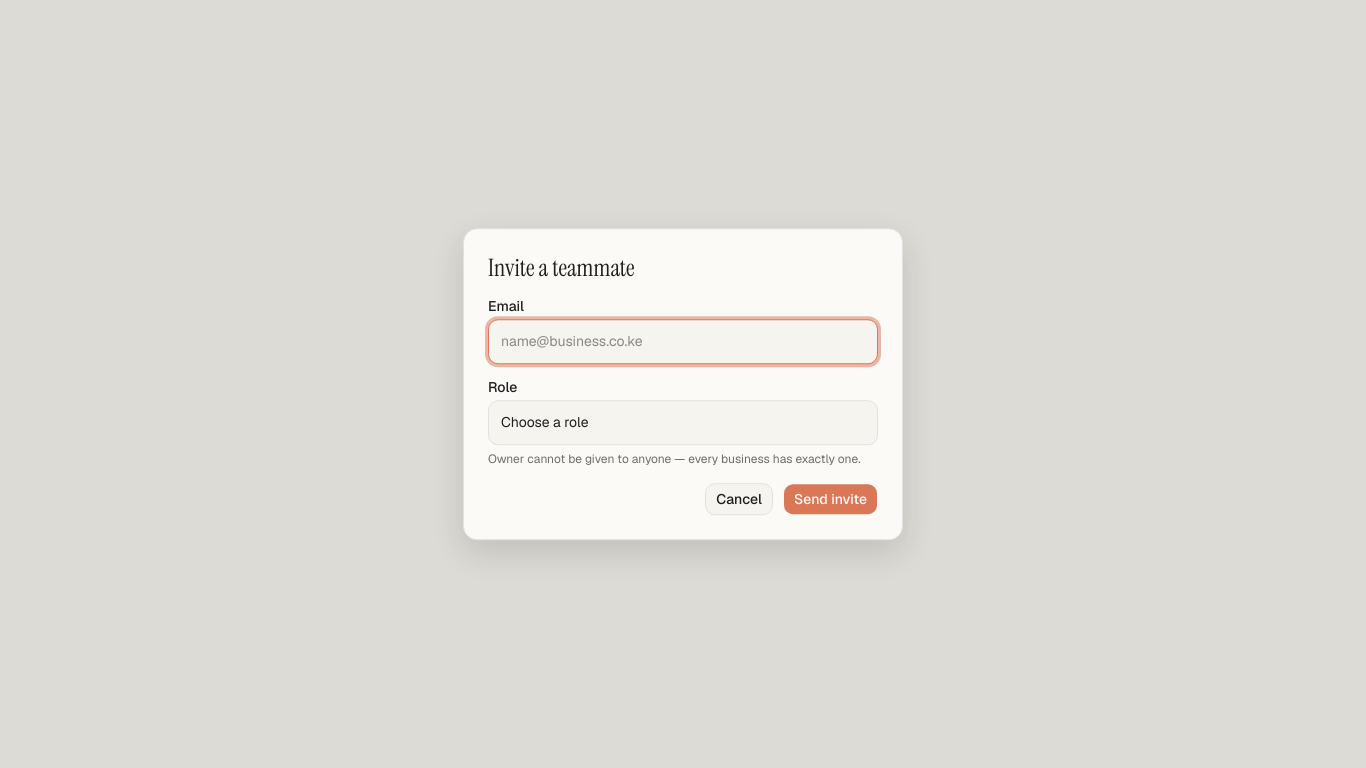
Test: InviteMemberDialog › adds the missing context to a 429: the quota belongs to the business
Type "leyla@spark.co.ke" into the field labelled "Email" at (683, 342), box left=488, top=319, right=878, bottom=364
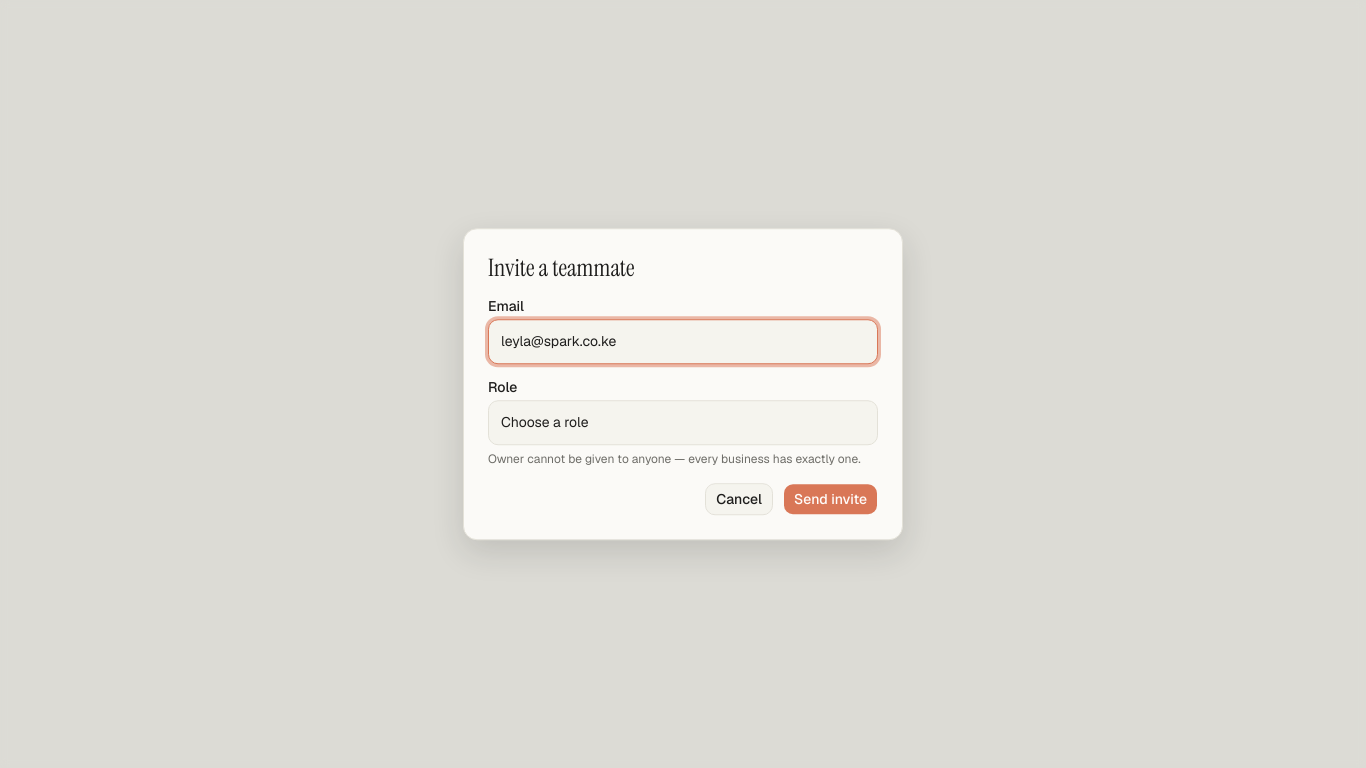
Select "Seller" in the dropdown labelled "Role" at (683, 422), box left=488, top=400, right=878, bottom=445
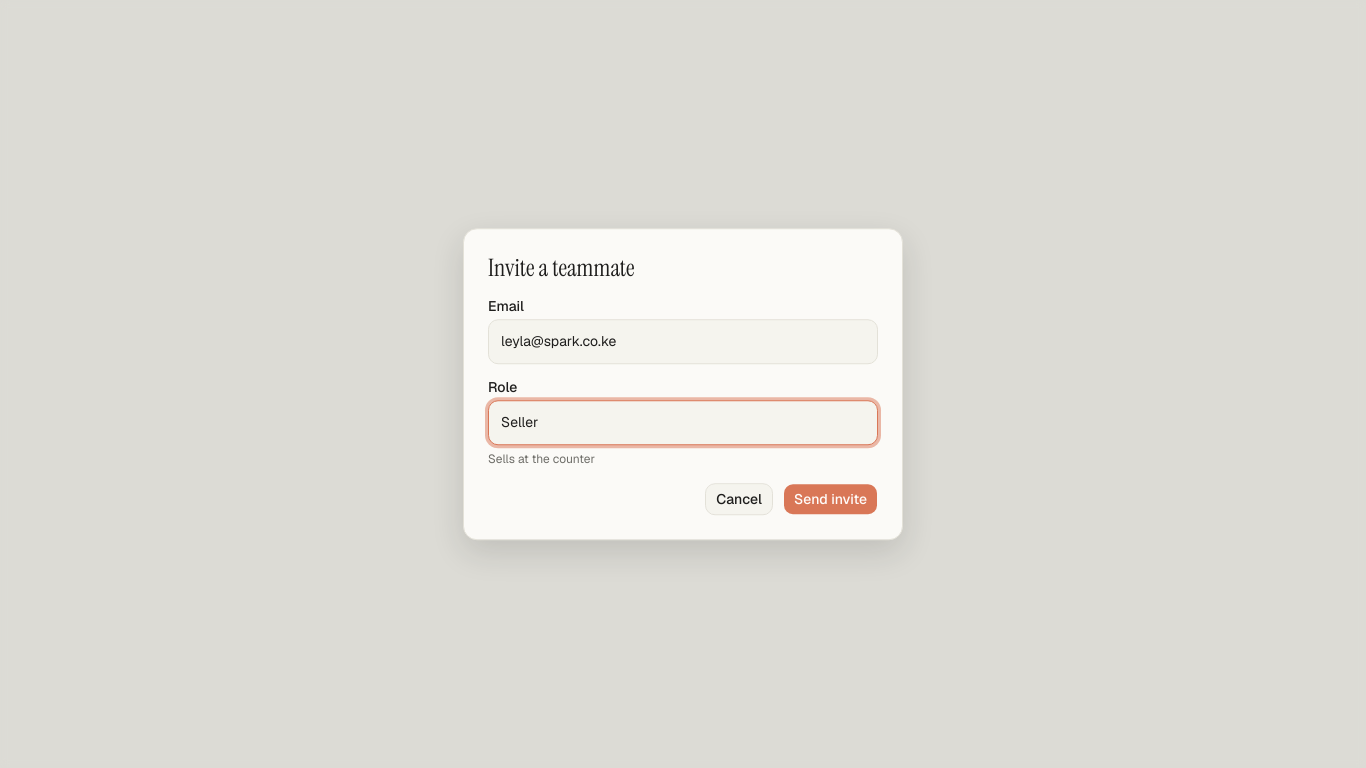
Click the button "Send invite" at (830, 499), box left=783, top=483, right=878, bottom=515
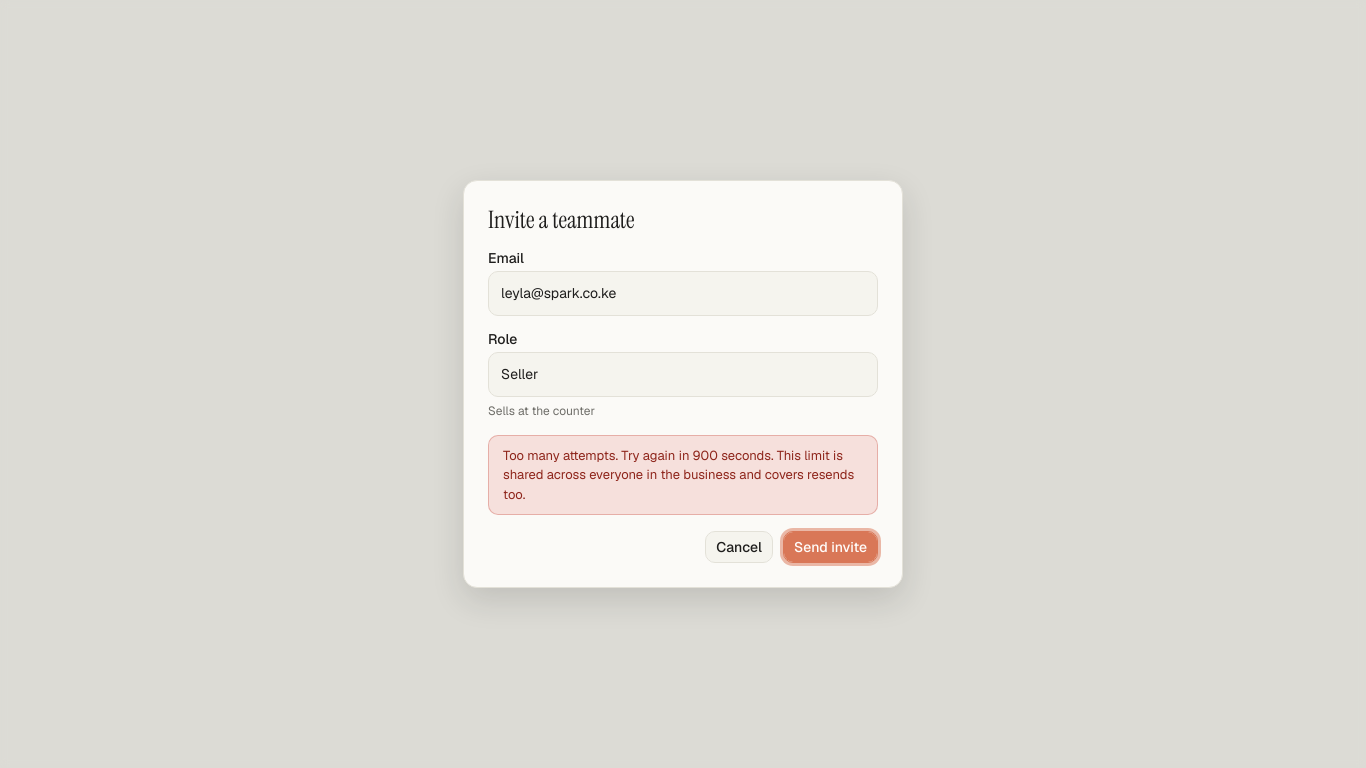
Now the text "shared across everyone in the business" is shown, box left=503, top=446, right=854, bottom=502
